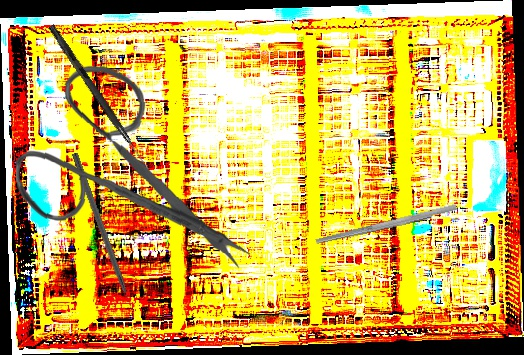Hook Surgical: (46, 24, 153, 171), (69, 152, 136, 314)
Iris Scissors: (10, 56, 253, 283)
Pusher: (339, 202, 458, 240)
Scalpel Handle: (313, 204, 459, 246)
